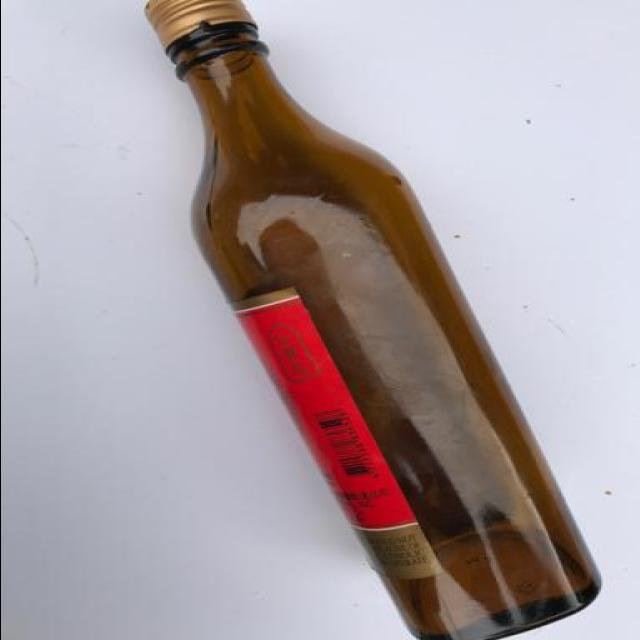litter: (135, 0, 600, 638)
